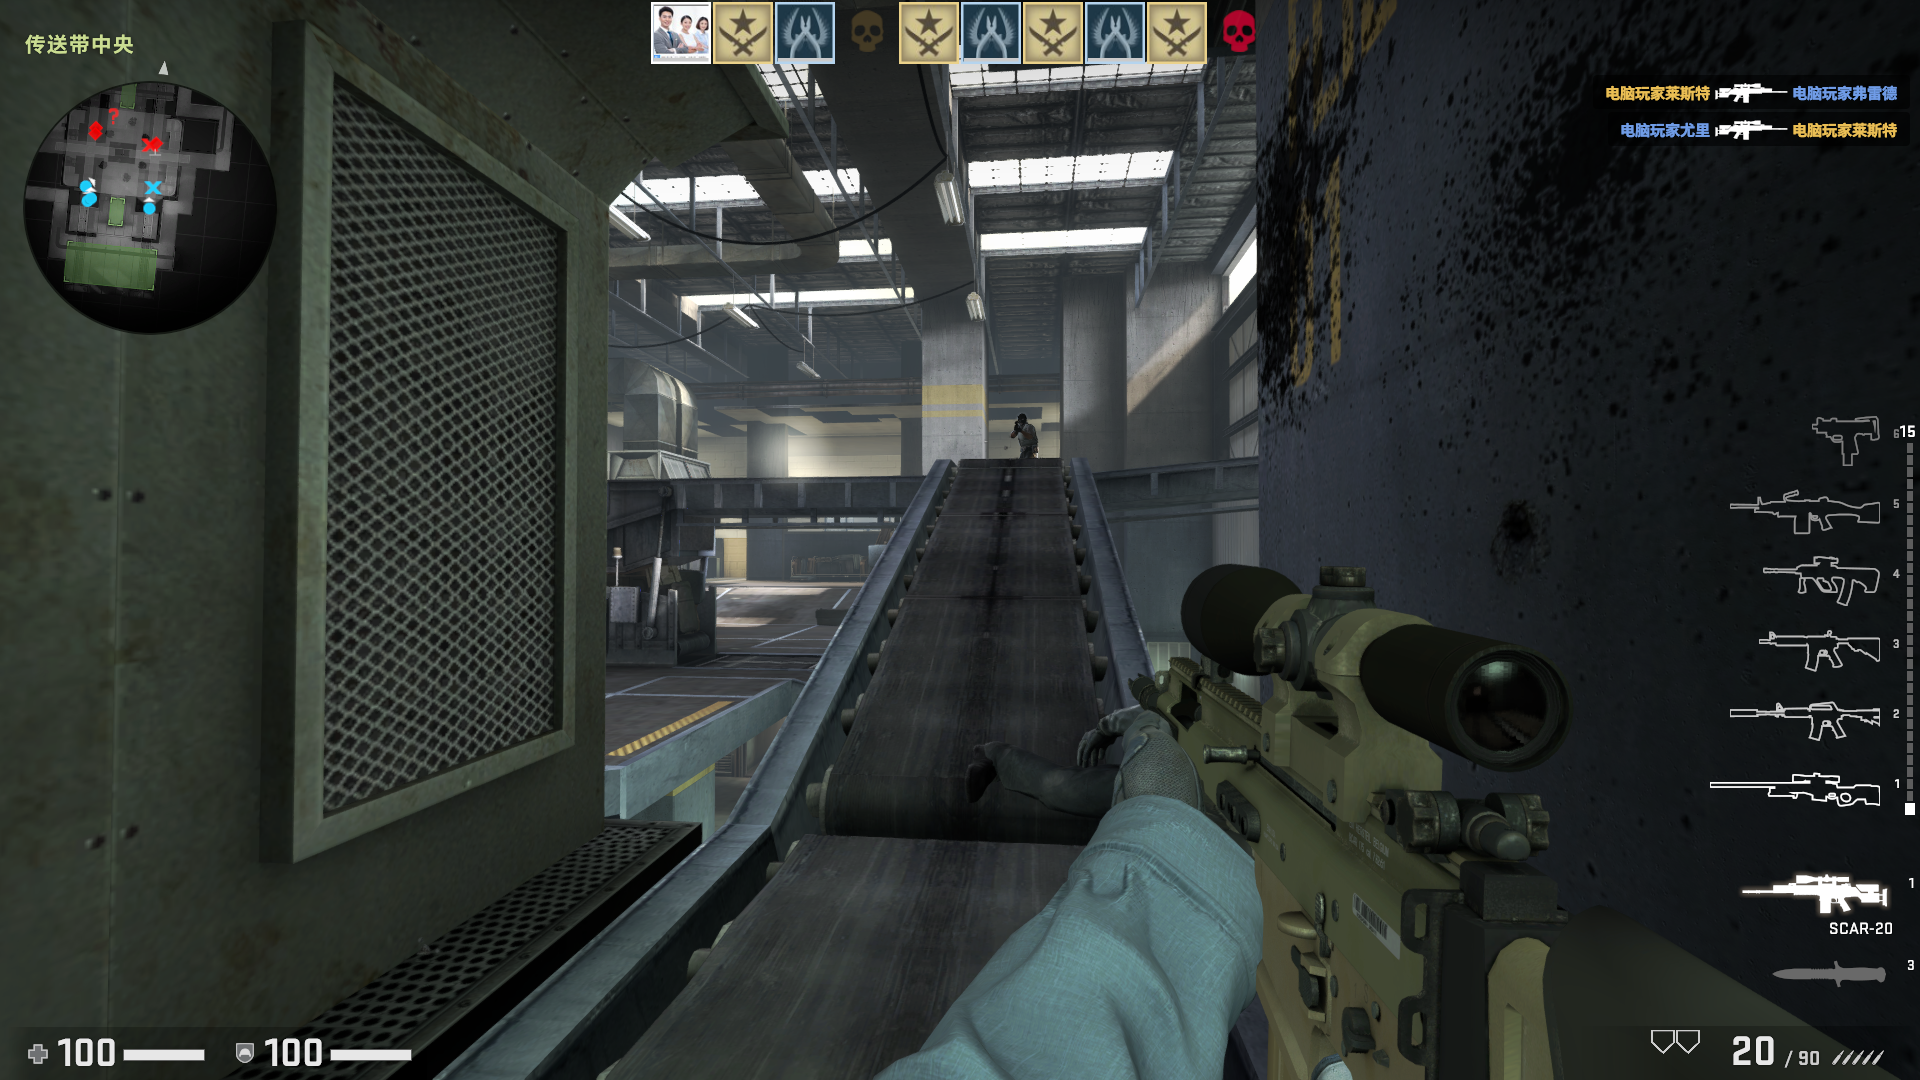person: (1008, 411, 1043, 461)
